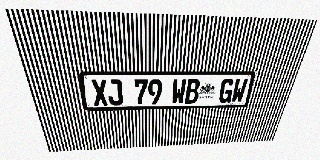7: (133, 79, 148, 105)
9: (148, 79, 163, 105)
B: (185, 79, 201, 104)
G: (218, 79, 235, 103)
J: (106, 79, 123, 105)
W: (230, 79, 248, 103), (171, 79, 186, 104)
X: (91, 79, 109, 106)
